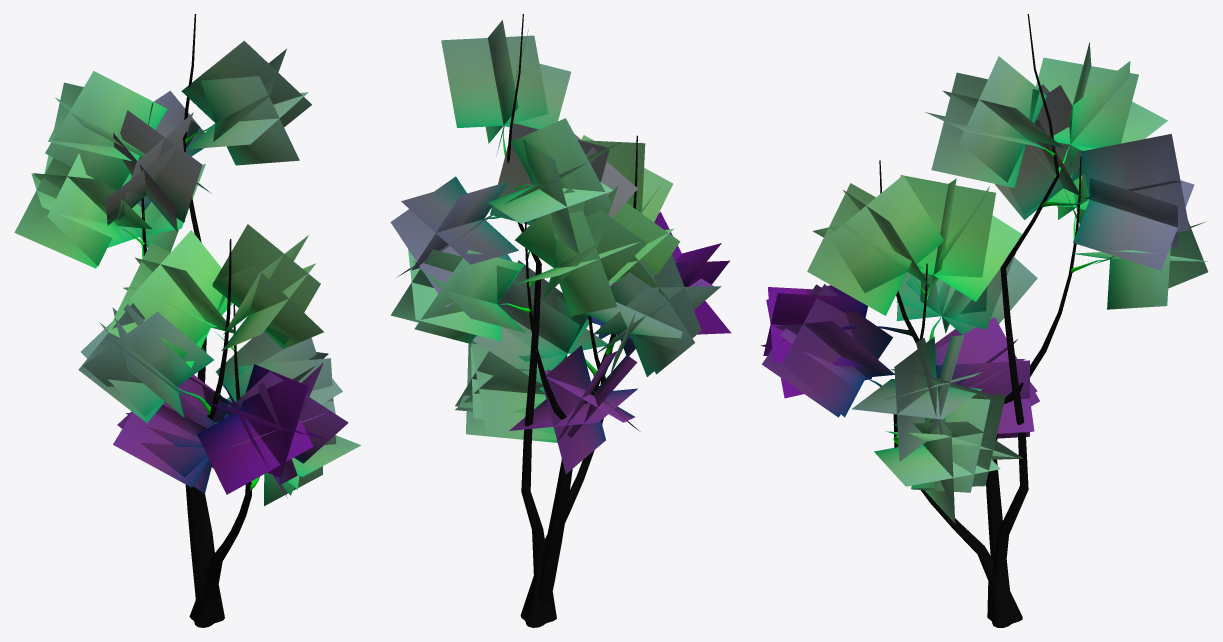
Rendered from URP_P6_Tree_9_LOD_1.fbx.
3 renders of one model, left to right at view 1: azimuth 30°, elevation 25°; view 2: azimuth 150°, elevation 25°; view 3: azimuth 270°, elevation 25°, orthographic. The views are drawn at different scales.
Visible parts, largest first — view 1: Tree_9_LOD_1; view 2: Tree_9_LOD_1; view 3: Tree_9_LOD_1.
Boxes of the visible parts, x1,y1,x2,y2 form: Tree_9_LOD_1: [14, 14, 360, 627]; Tree_9_LOD_1: [390, 14, 731, 627]; Tree_9_LOD_1: [760, 14, 1208, 627].
Bounding box in the file's own units: 470 × 1075 × 721.
